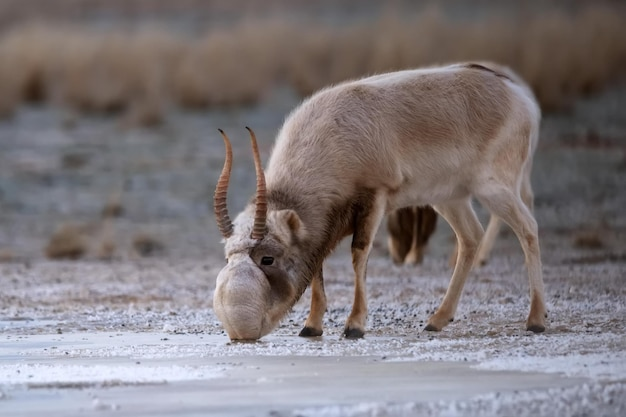saiga: (213, 59, 553, 360)
